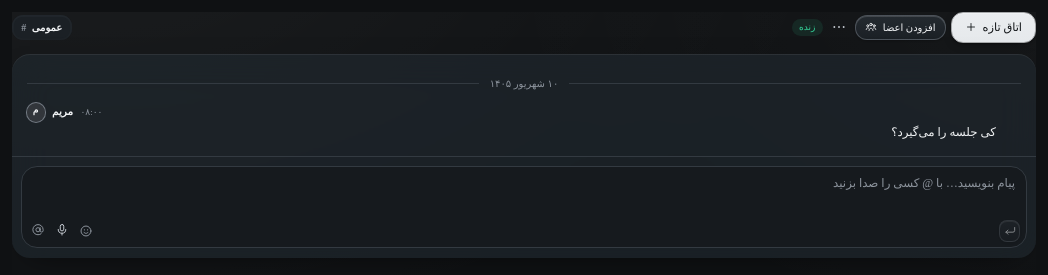
Test: standing in no room › says «حذف اتاق» rather than «بایگانی»
Click the button named "گزینه‌های اتاق": click(839, 27) left=828, top=16, right=850, bottom=38
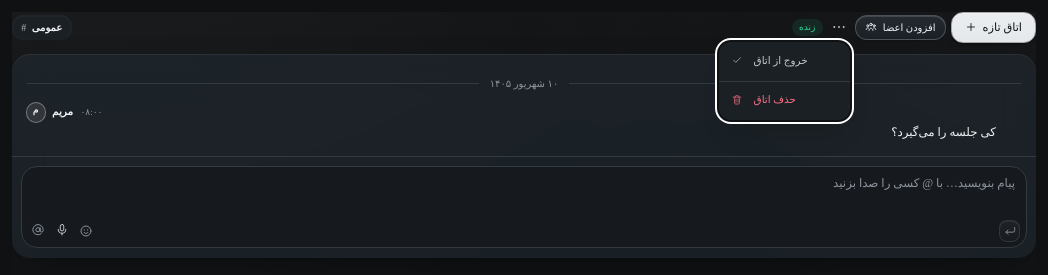
Now the menu item "حذف اتاق" is shown, box left=731, top=94, right=796, bottom=106
